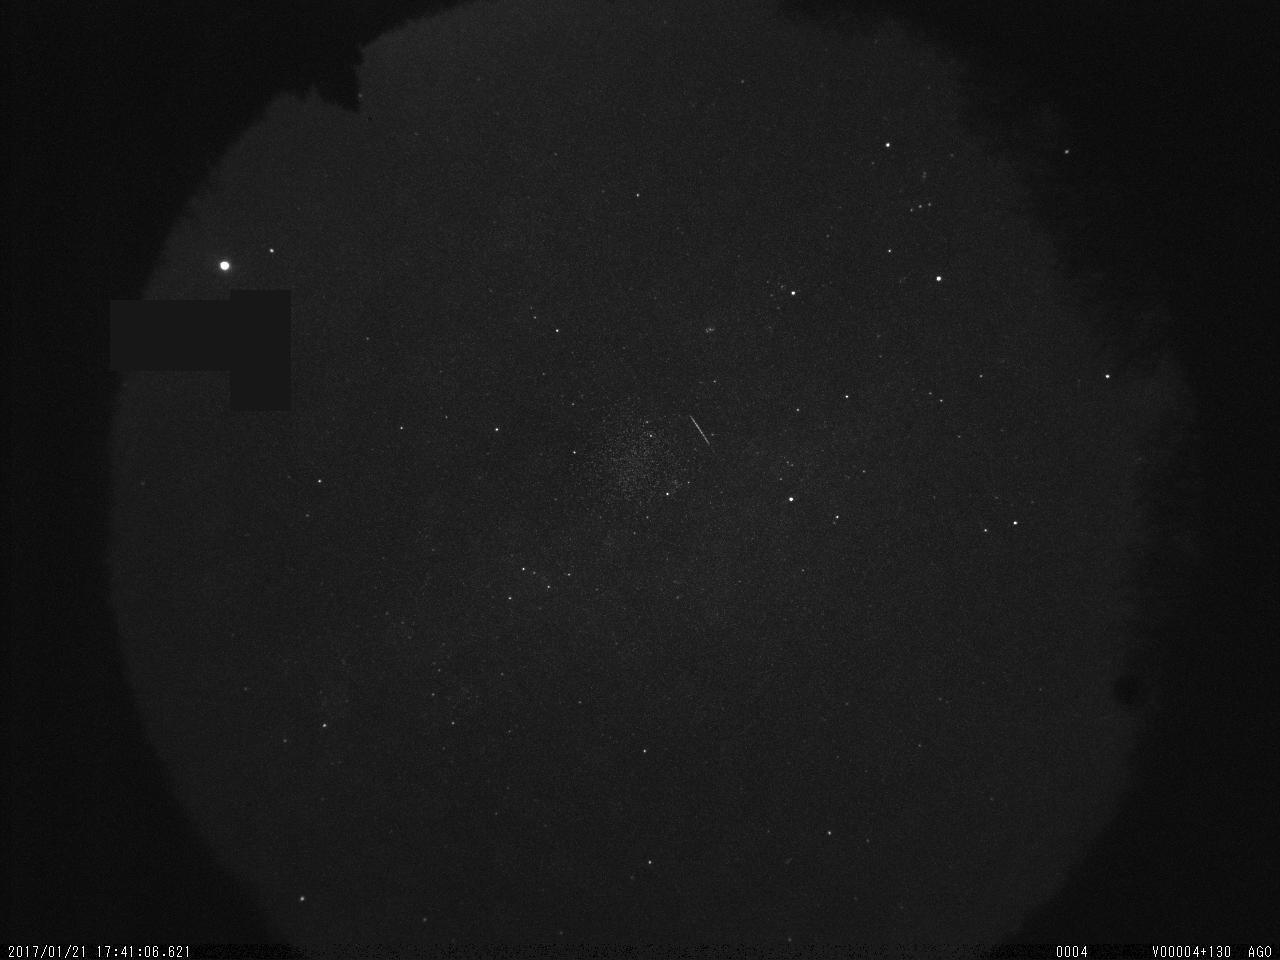meteor: (683, 402, 717, 453)
